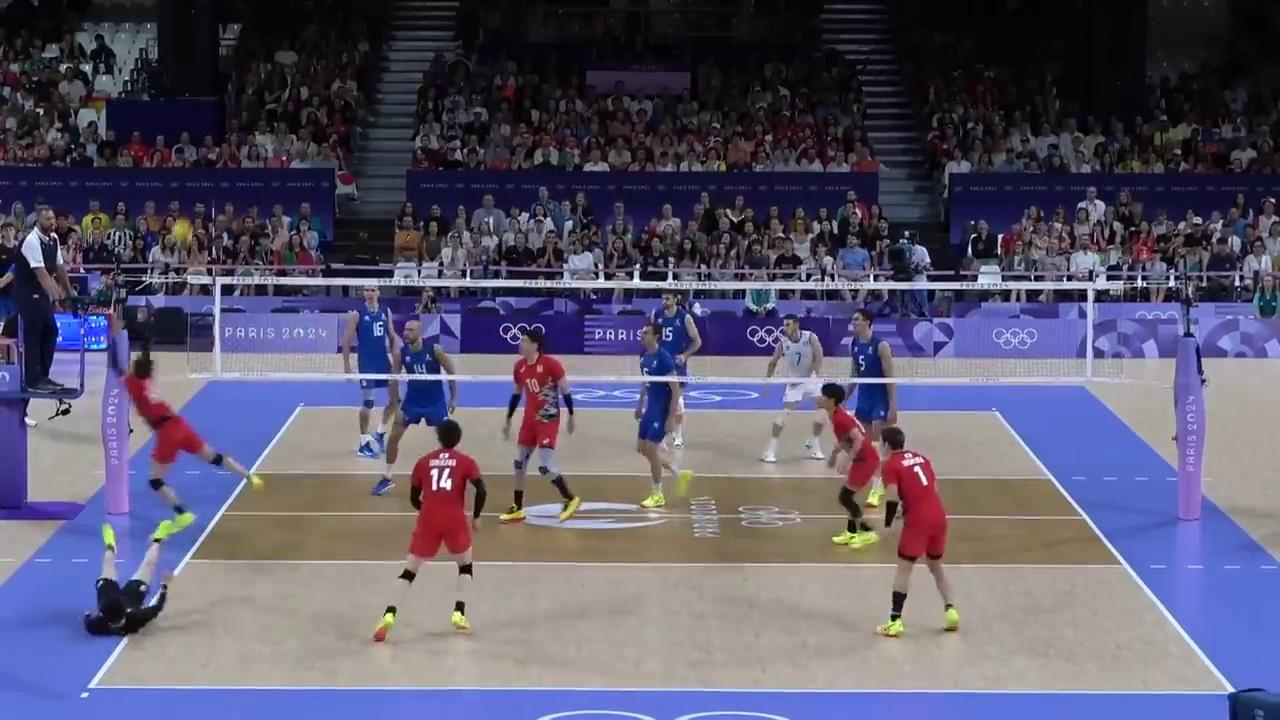ball: (172, 221, 192, 243)
